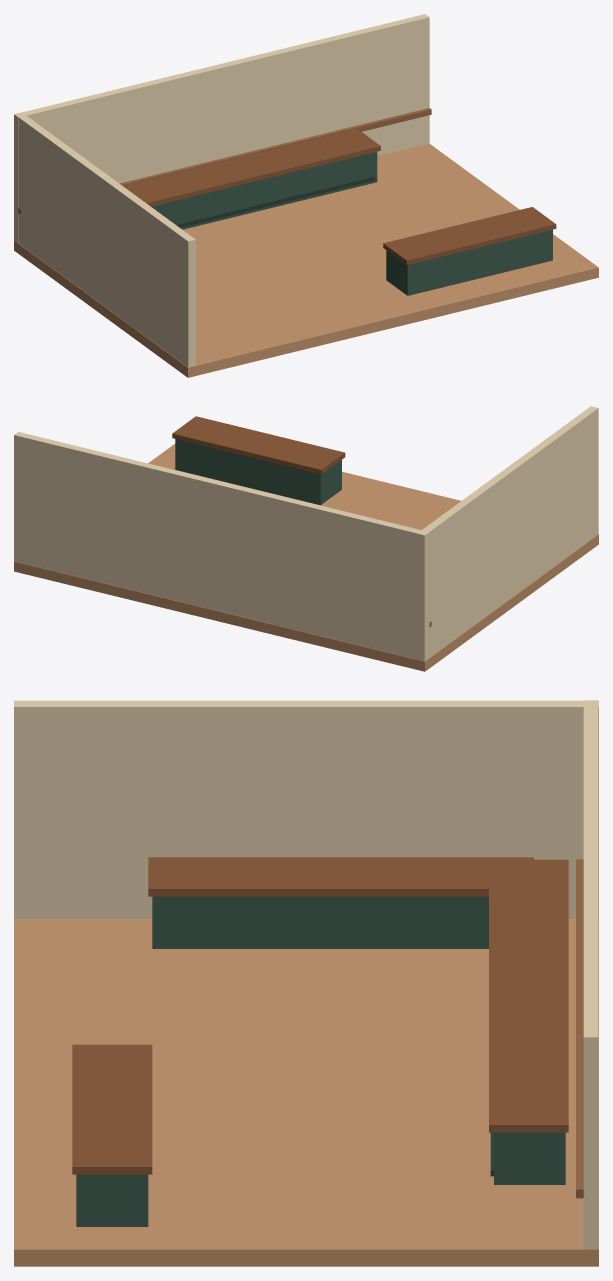
File: cafe-shell.glb
3 renders of one model, top to bottom at view 1: azimuth 30°, elevation 25°; view 2: azimuth 150°, elevation 25°; view 3: azimuth 270°, elevation 25°, orthographic. The views are drawn at different scales.
Parts seen in each view (by area): view 1: ExpandedFloor, BackWall, SideWall, BackWalnutTop, OpenBackCounter, ServeCounter, ServeWalnutTop, WallTrim, BackCounterKickboard; view 2: BackWall, SideWall, ExpandedFloor, ServeCounter, ServeWalnutTop; view 3: ExpandedFloor, SideWall, BackWalnutTop, OpenSideCounter, SideWalnutTop, ServeWalnutTop, BackWall, ServeCounter, OpenBackCounter, WallTrim.
Boxes of the visible parts, x1=… form: ExpandedFloor: x1=14, y1=143, x2=598, y2=377; BackWall: x1=14, y1=14, x2=429, y2=243; SideWall: x1=14, y1=112, x2=195, y2=367; BackWalnutTop: x1=123, y1=129, x2=380, y2=206; OpenBackCounter: x1=151, y1=151, x2=377, y2=229; ServeCounter: x1=386, y1=229, x2=552, y2=295; ServeWalnutTop: x1=383, y1=207, x2=556, y2=264; WallTrim: x1=18, y1=108, x2=431, y2=214; BackCounterKickboard: x1=176, y1=176, x2=374, y2=227; BackWall: x1=14, y1=432, x2=429, y2=661; SideWall: x1=417, y1=406, x2=598, y2=661; ExpandedFloor: x1=14, y1=444, x2=598, y2=671; ServeCounter: x1=175, y1=439, x2=341, y2=505; ServeWalnutTop: x1=172, y1=416, x2=345, y2=474; ExpandedFloor: x1=14, y1=919, x2=598, y2=1266; SideWall: x1=14, y1=700, x2=598, y2=918; BackWalnutTop: x1=489, y1=859, x2=568, y2=1132; OpenSideCounter: x1=152, y1=896, x2=488, y2=948; SideWalnutTop: x1=148, y1=857, x2=533, y2=896; ServeWalnutTop: x1=72, y1=1044, x2=152, y2=1174; BackWall: x1=583, y1=700, x2=598, y2=1249; ServeCounter: x1=76, y1=1174, x2=148, y2=1226; OpenBackCounter: x1=494, y1=1132, x2=565, y2=1184; WallTrim: x1=576, y1=859, x2=584, y2=1198.
Bounding box in the file's own units: 15 × 4.76 × 11.
